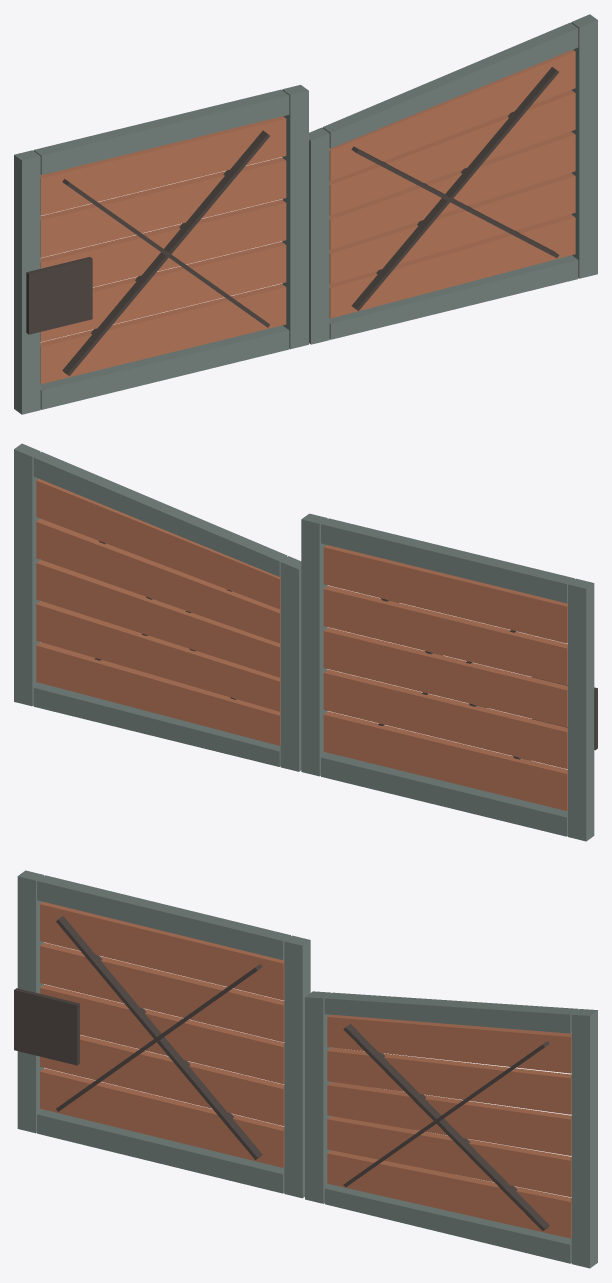
File: SM_PuertaVia_v2_Tablones_e1_Danado_LOD1.fbx
3 views of the same model, one above another, from view 1: azimuth 30°, elevation 25°; view 2: azimuth 150°, elevation 25°; view 3: azimuth 330°, elevation 25° (orthographic).
Visible parts, largest first — view 1: Hoja_O, Hoja_E; view 2: Hoja_O, Hoja_E; view 3: Hoja_O, Hoja_E.
Boxes of the visible parts, box(x1,y1,x2,y2) form: Hoja_O: box(14, 85, 308, 414); Hoja_E: box(309, 14, 597, 344); Hoja_O: box(301, 513, 597, 841); Hoja_E: box(14, 443, 301, 771); Hoja_O: box(14, 870, 310, 1198); Hoja_E: box(305, 991, 597, 1268).
Size of what is drawn, in the model's own units: 4.98 by 2.1 by 0.2.
